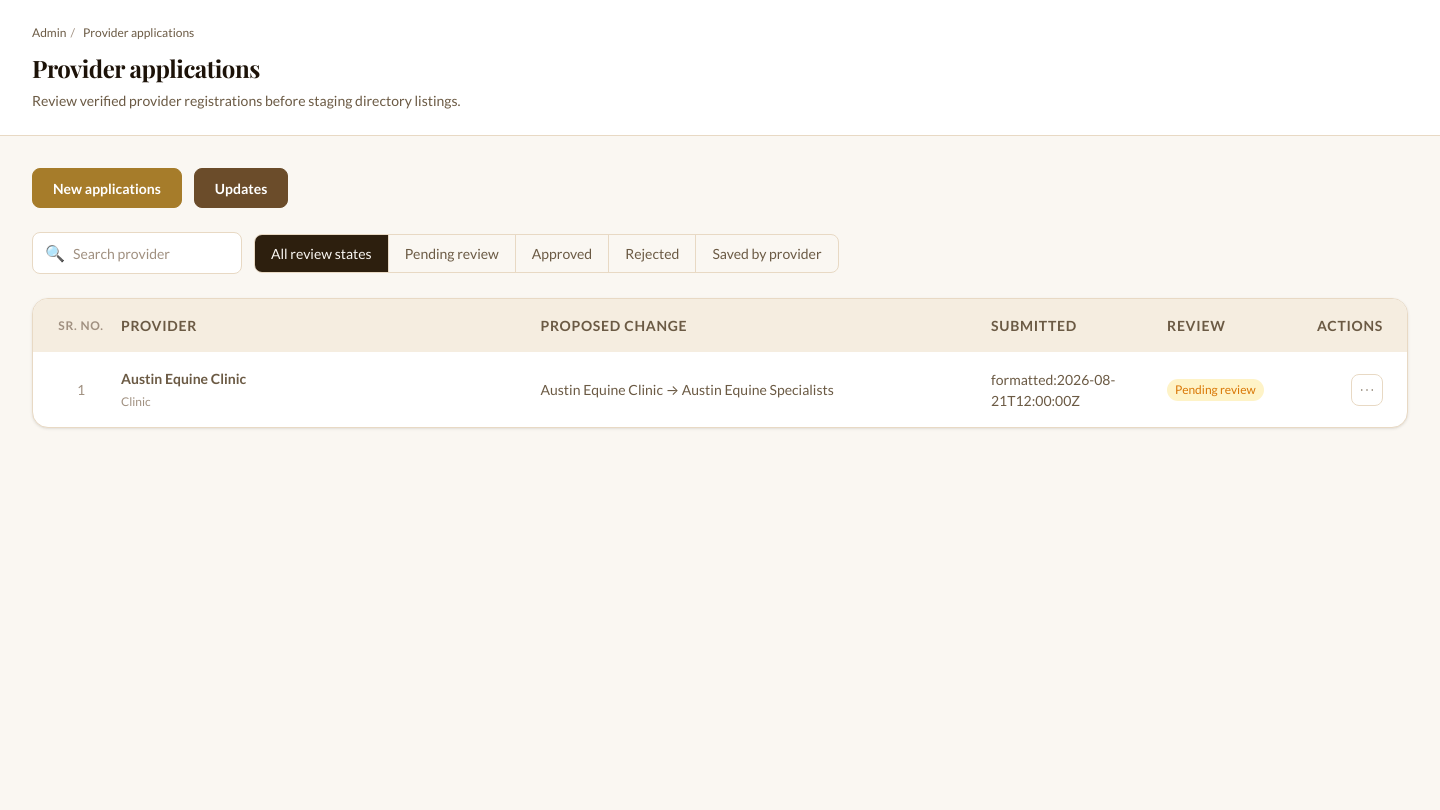
ProviderApplicationsPage › compares structured names, unknown classification, and readable retained language labels
The image size is (1440, 810).
Click the button named "Actions for Austin Equine Clinic update" at (1367, 390), box x1=1351 y1=374 x2=1383 y2=406
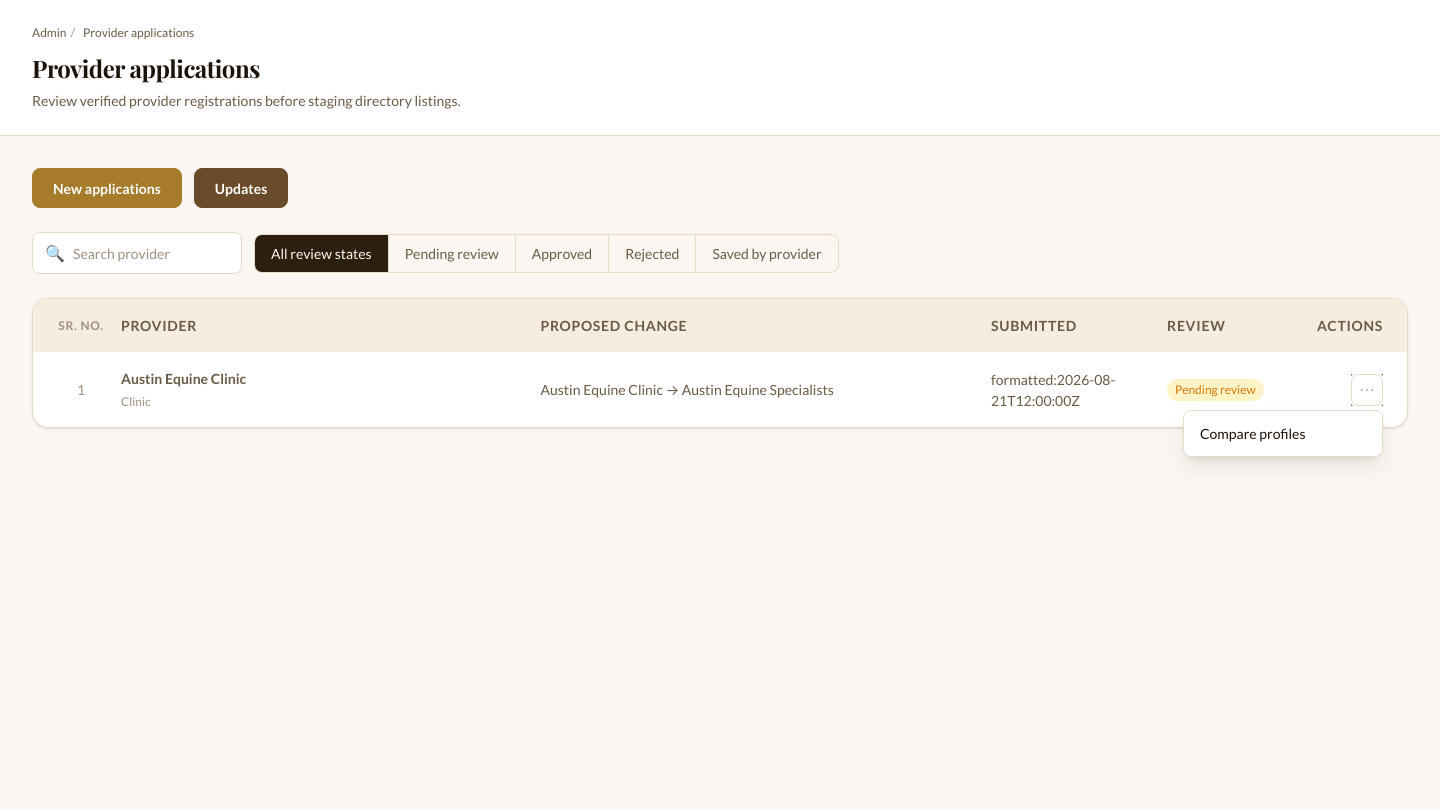
Click the menu item "Compare profiles" at (1283, 433), box x1=1188 y1=414 x2=1378 y2=452
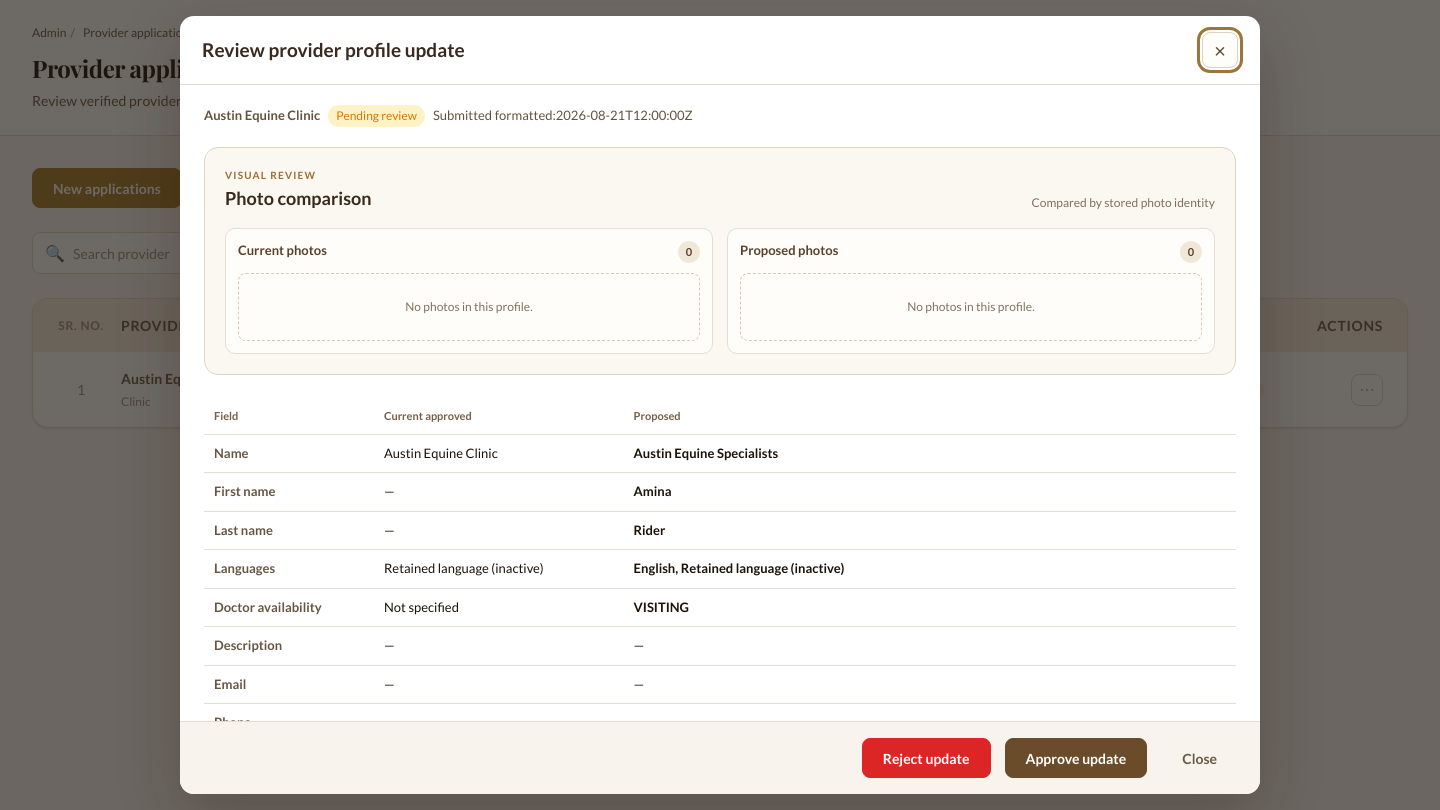
Expected: the row "First name — Amina" is shown, x1=204 y1=472 x2=1236 y2=511
Expected: the row "Last name — Rider" is shown, x1=204 y1=511 x2=1236 y2=550
Expected: the row "Doctor availability Not specified VISITING" is shown, x1=204 y1=588 x2=1236 y2=626
